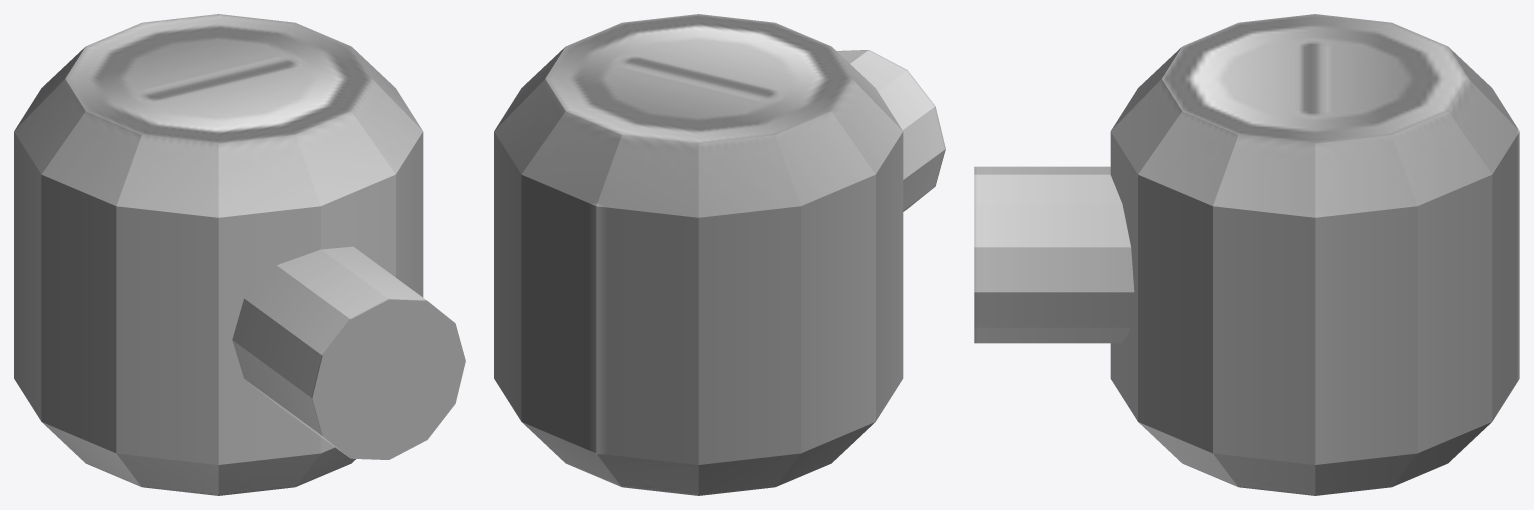
The model's file is JVRC-1-shape-7.dae.
3 renders of one model, left to right at view 1: azimuth 30°, elevation 25°; view 2: azimuth 150°, elevation 25°; view 3: azimuth 270°, elevation 25°, orthographic.
Parts seen in each view (by area): view 1: root; view 2: root; view 3: root.
Part boxes in pixels (bbox=[...]): root: bbox=[14, 14, 465, 495]; root: bbox=[494, 14, 945, 495]; root: bbox=[974, 14, 1519, 495].
Bounding box in the file's own units: 6 × 5.7 × 8.
1 material, 1 textured.
